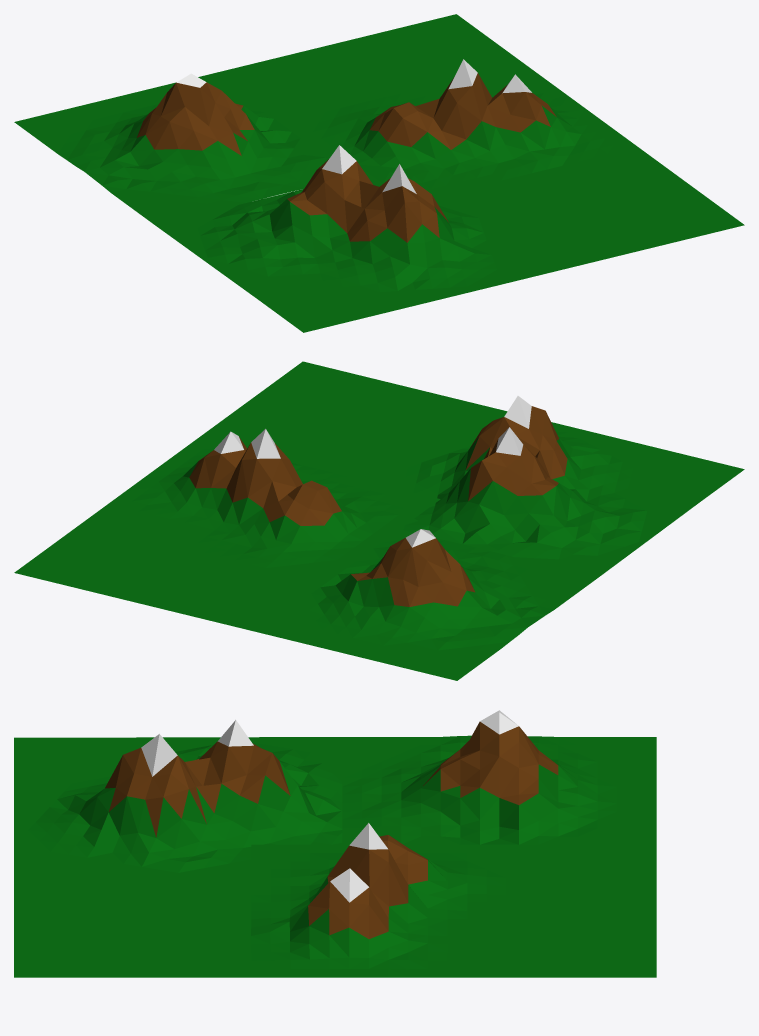
The model's file is terrain2.glb.
3 views of the same model, one above another, from view 1: azimuth 30°, elevation 25°; view 2: azimuth 150°, elevation 25°; view 3: azimuth 270°, elevation 25° (orthographic). The views are drawn at different scales.
Visible parts, largest first — view 1: mountain.001; view 2: mountain.001; view 3: mountain.001.
Part boxes in pixels (x1=…): mountain.001: x1=14, y1=14, x2=744, y2=332; mountain.001: x1=14, y1=361, x2=744, y2=680; mountain.001: x1=14, y1=710, x2=656, y2=977.
Bounding box in the file's own units: 1716 × 263 × 1862.
